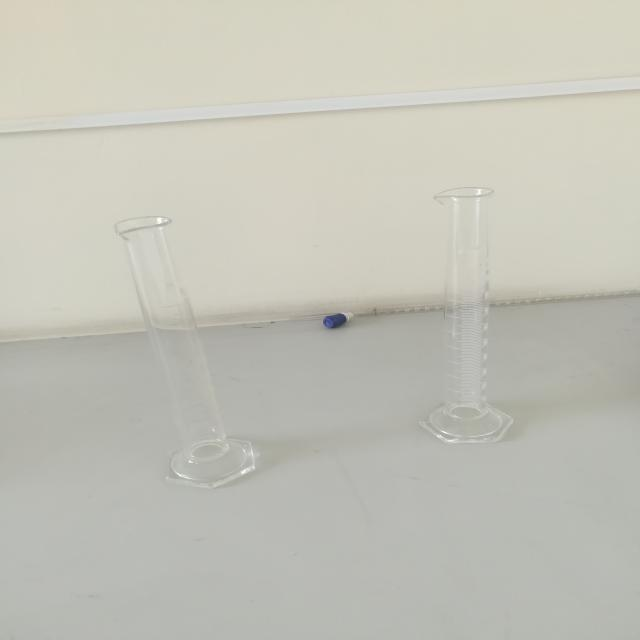Measuring_Cylinder: (101, 186, 289, 519), (392, 160, 555, 470)
